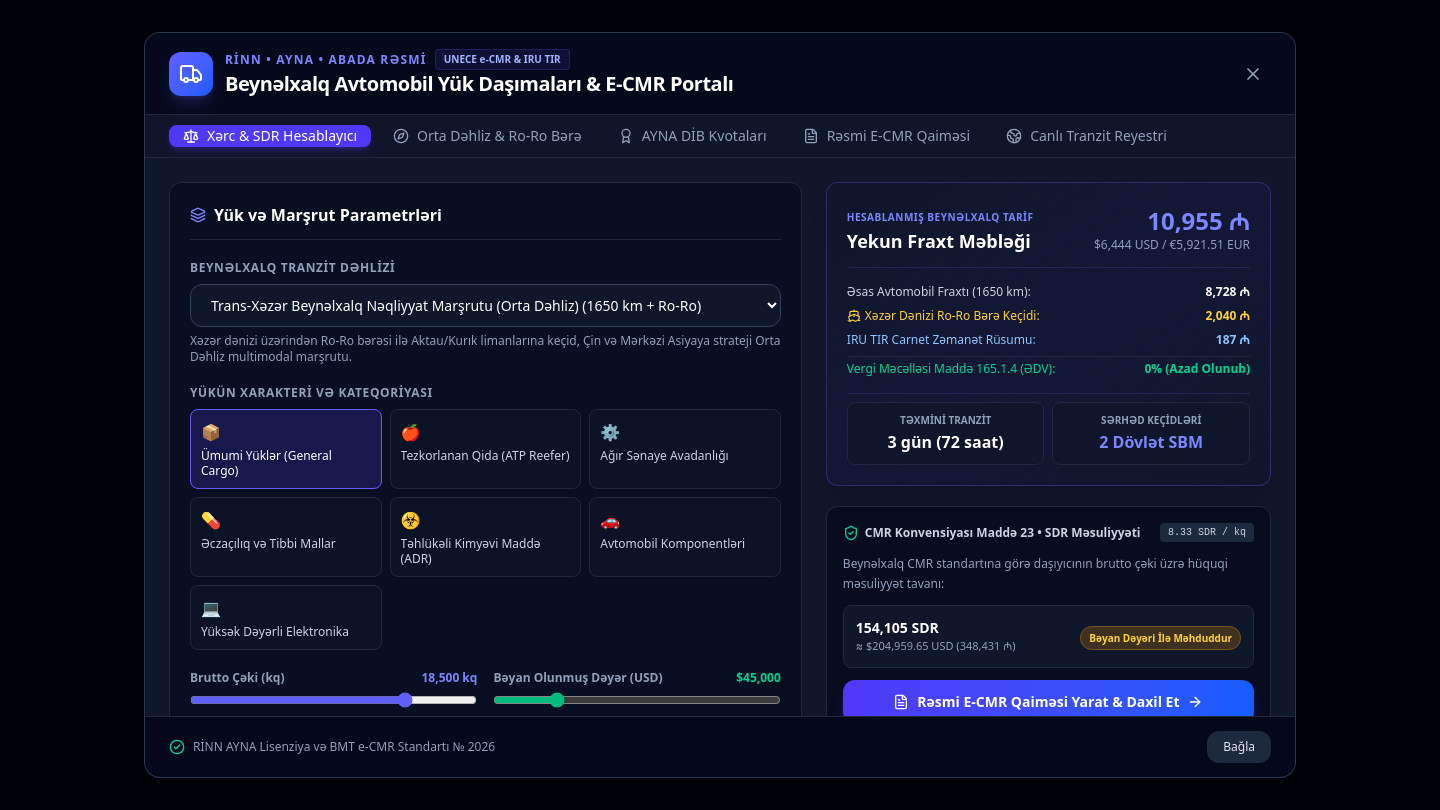
Test: InternationalFreightModal Component › updates SDR calculation when gross weight is changed
Step 1. Set the slider with test id "gross-weight-slider" to "20000" → (422, 700), box [190,692,477,708]
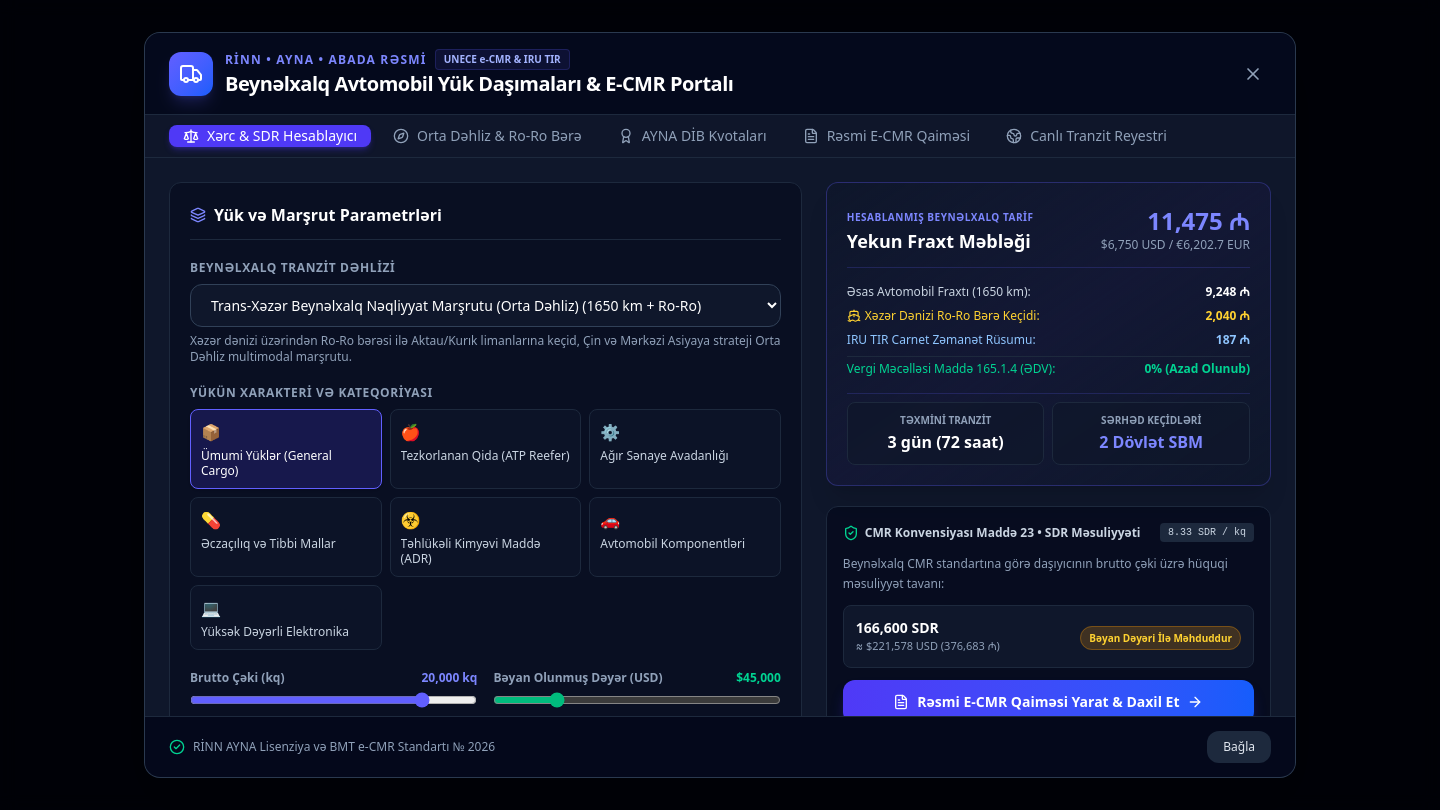
Check: the text "20,000 kq" is shown, box [422,670,477,686]
